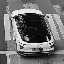motor: (18, 9, 44, 51)
